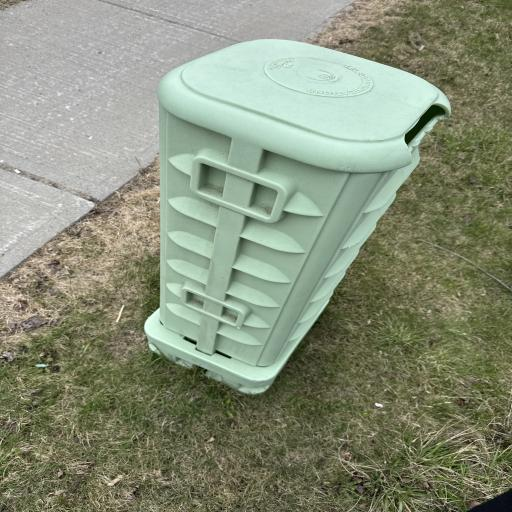Electrical Box: (138, 36, 453, 398)
